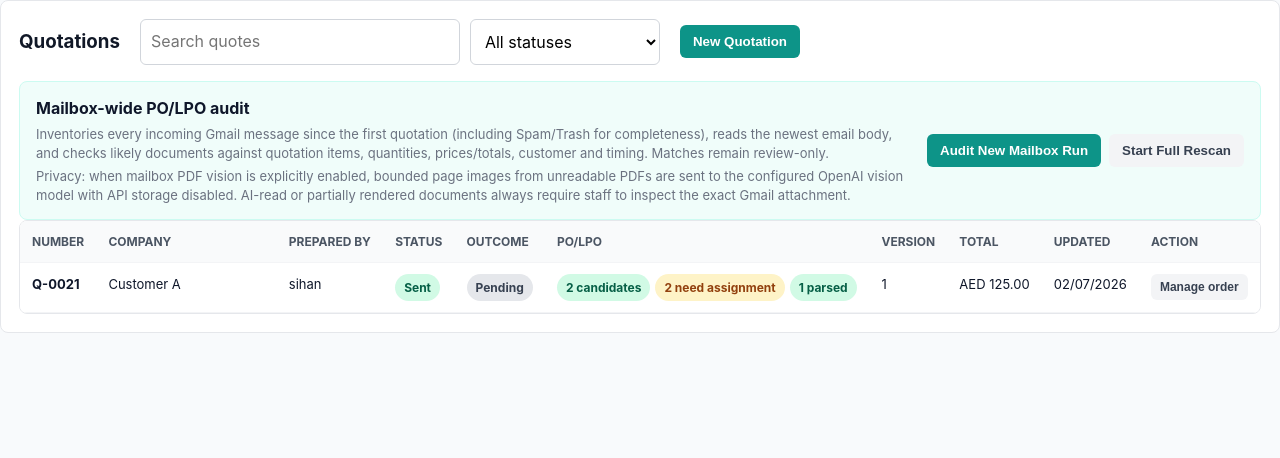
Test: QuotationList PO/LPO evidence summaries › shows why PDF vision is unavailable without blocking reconciliation
Expected: the text "Q-0021" is shown, [32,276,80,292]
Click the button "Audit New Mailbox Run": (1014, 150) [927,134,1101,167]
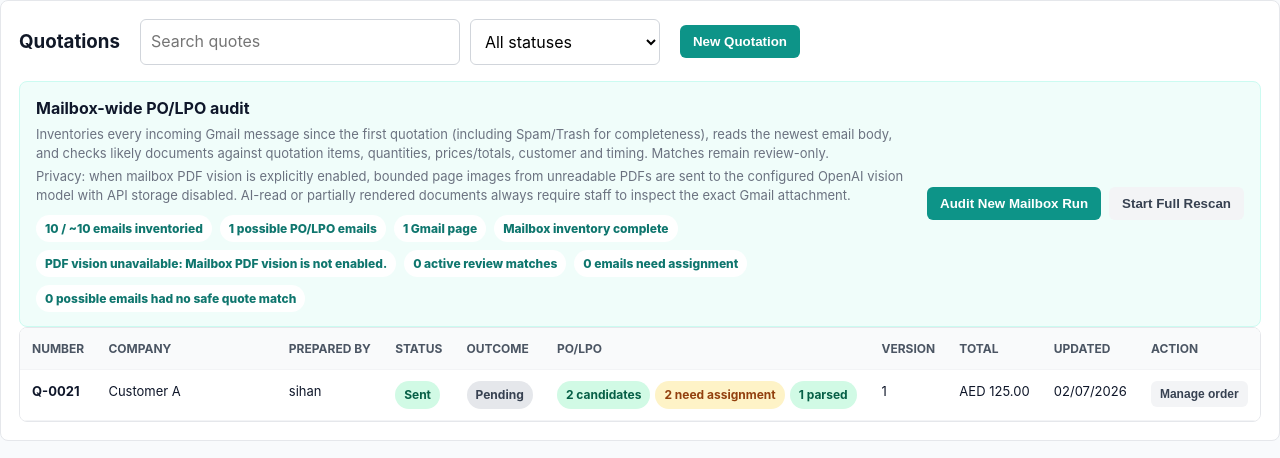
Expected: the text "PDF vision unavailable: Mailbox PDF vision is not enabled." is shown, [36,250,396,277]
